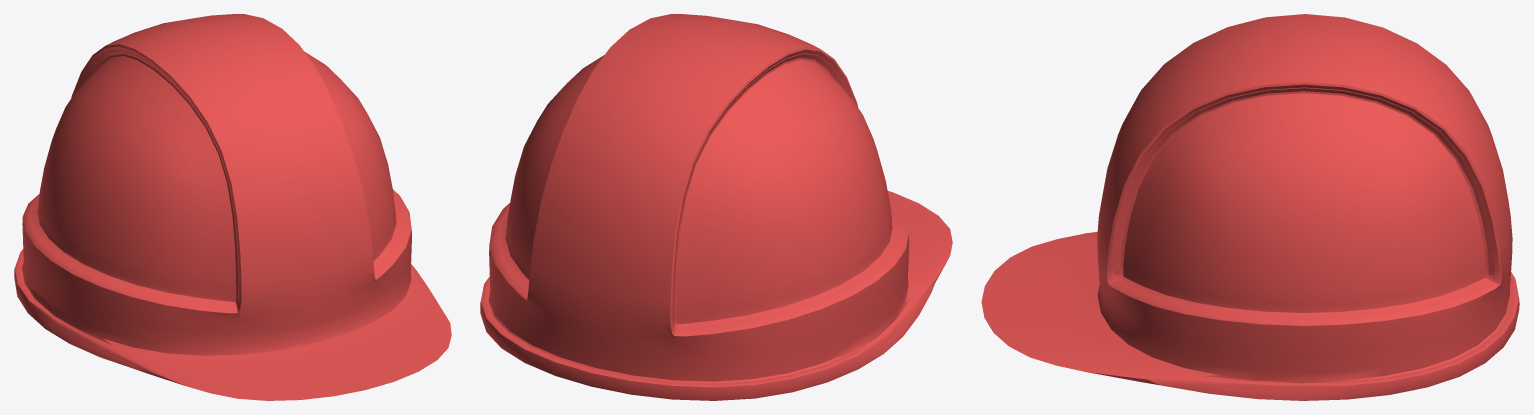
Rendered from Helm Proyek.fbx.
The picture shows the model from 3 angles, left to right: view 1: azimuth 30°, elevation 25°; view 2: azimuth 150°, elevation 25°; view 3: azimuth 270°, elevation 25°; orthographic projection. The views are drawn at different scales.
Parts seen in each view (by area): view 1: Cube; view 2: Cube; view 3: Cube.
Part boxes in pixels (x1,y1,x2,y2): Cube: (14,14,451,400); Cube: (480,14,952,400); Cube: (981,14,1519,400).
Size of the model in its own units: 24.2 by 16.97 by 30.45.
